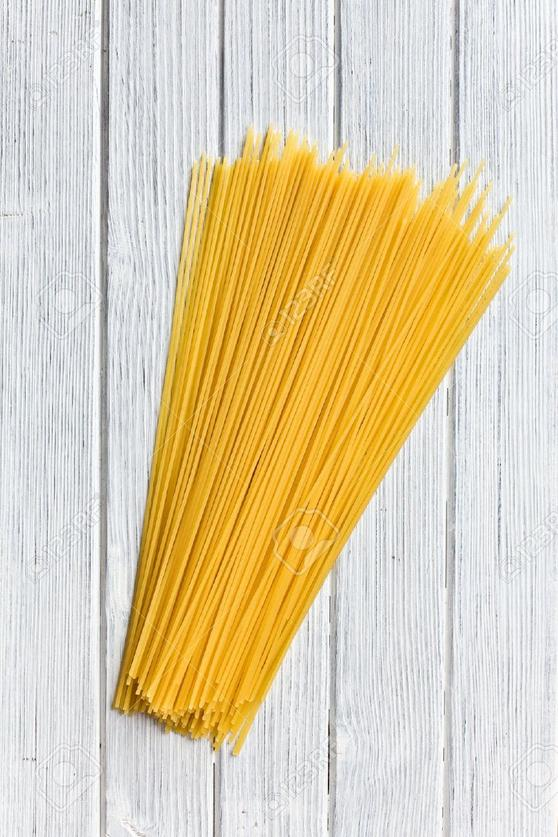spaghetti: (126, 130, 506, 759)
